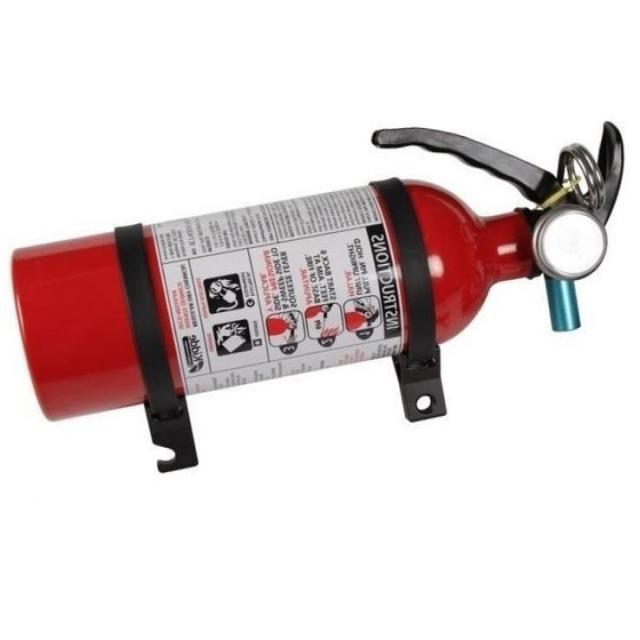fire_extinguisher: (7, 115, 632, 426)
